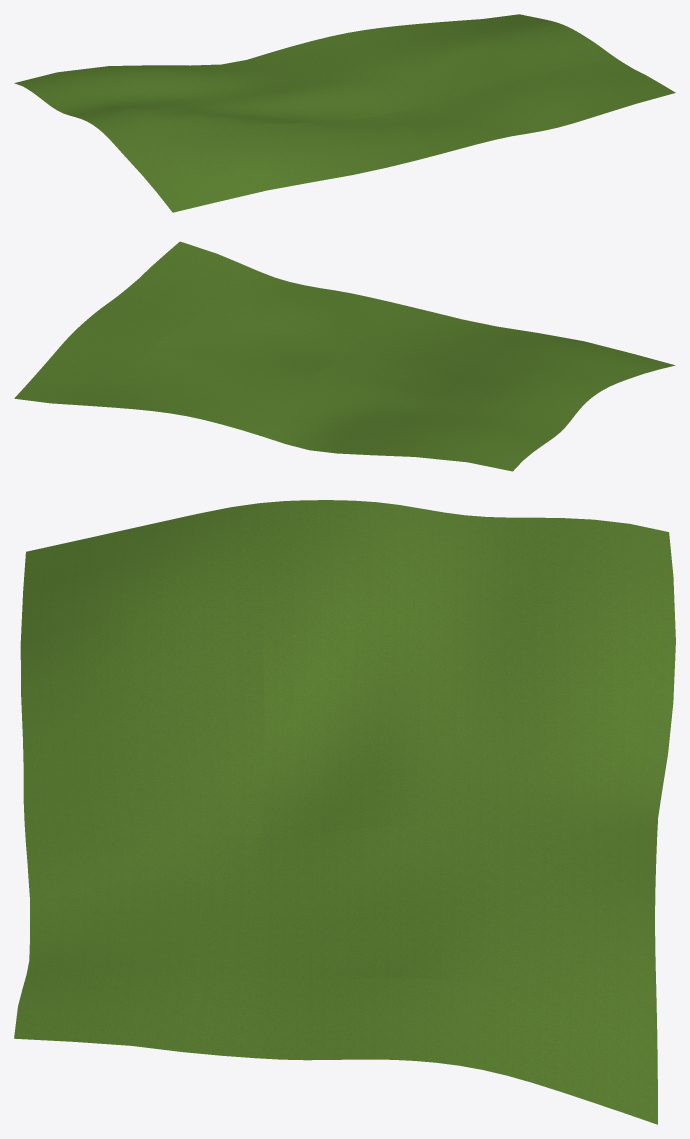
The model's file is Terrain.fbx.
The picture shows the model from 3 angles, top to bottom: view 1: azimuth 30°, elevation 25°; view 2: azimuth 150°, elevation 25°; view 3: azimuth 270°, elevation 25°; orthographic projection. The views are drawn at different scales.
Parts seen in each view (by area): view 1: Terrain_Ground.005, Terrain_Ground, Terrain_Ground.003, Terrain_Ground.004; view 2: Terrain_Ground.005, Terrain_Ground, Terrain_Ground.003, Terrain_Ground.004; view 3: Terrain_Ground.005, Terrain_Ground, Terrain_Ground.003, Terrain_Ground.004.
Boxes of the visible parts, left/top/right/bottom form: Terrain_Ground.005: left=14, top=52, right=437, bottom=212; Terrain_Ground: left=271, top=22, right=534, bottom=114; Terrain_Ground.003: left=439, top=14, right=675, bottom=117; Terrain_Ground.004: left=384, top=76, right=590, bottom=154; Terrain_Ground.005: left=263, top=307, right=675, bottom=471; Terrain_Ground: left=96, top=313, right=346, bottom=436; Terrain_Ground.003: left=14, top=241, right=257, bottom=406; Terrain_Ground.004: left=199, top=271, right=411, bottom=353; Terrain_Ground.005: left=20, top=500, right=675, bottom=836; Terrain_Ground: left=257, top=824, right=656, bottom=1021; Terrain_Ground.003: left=14, top=970, right=657, bottom=1124; Terrain_Ground.004: left=24, top=823, right=260, bottom=977.
Size of the model in its own units: 41817 by 5393 by 23783.
